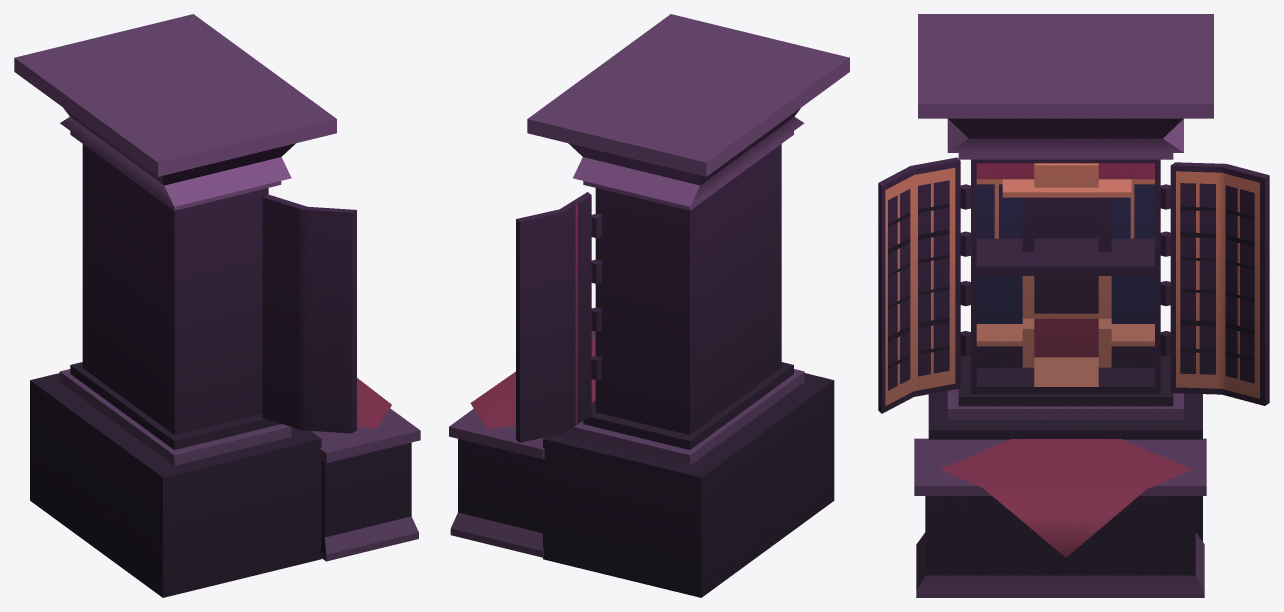
The model's file is ArmarioCemiterio.fbx.
3 views of the same model, side by side, from view 1: azimuth 30°, elevation 25°; view 2: azimuth 150°, elevation 25°; view 3: azimuth 270°, elevation 25° (orthographic). The views are drawn at different scales.
Visible parts, largest first — view 1: pCylinder19; view 2: pCylinder19; view 3: pCylinder19.
Boxes of the visible parts, x1,y1,x2,y2 form: pCylinder19: (14,14,420,597); pCylinder19: (449,14,849,597); pCylinder19: (878,14,1269,597).
Size of the model in its own units: 1.82 by 2.85 by 2.22.
